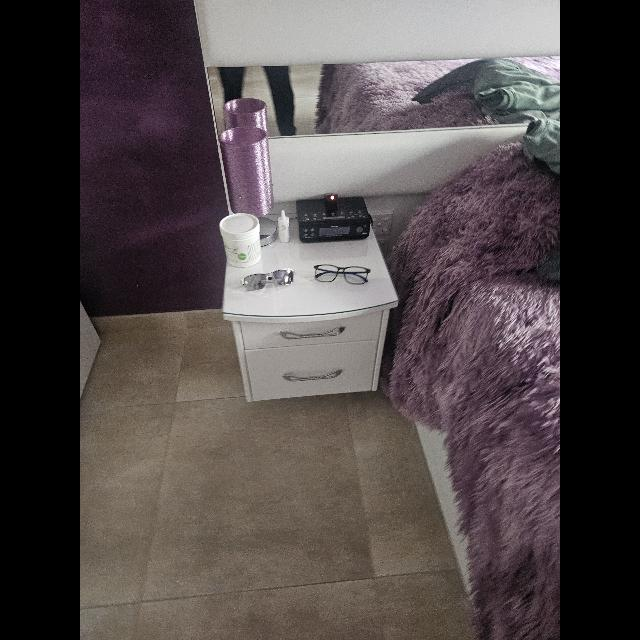Sunglasses: (241, 269, 295, 291)
glasses: (314, 264, 371, 284)
